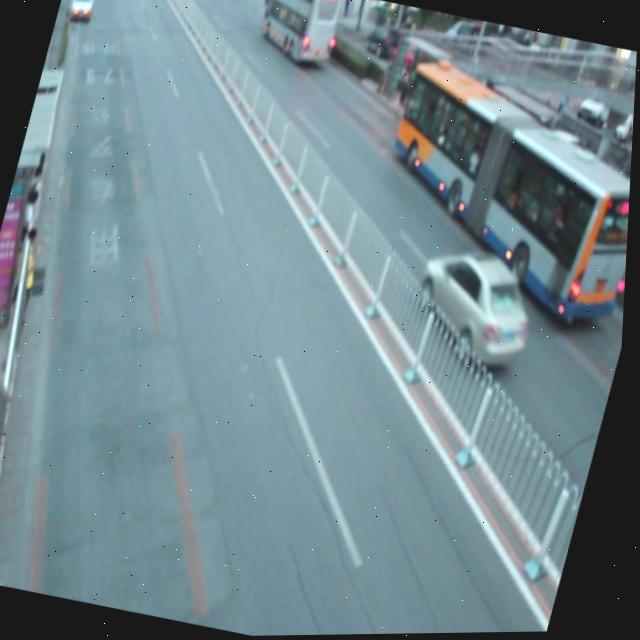car: (402, 240, 549, 384)
van: (359, 57, 637, 330), (250, 0, 343, 68)
